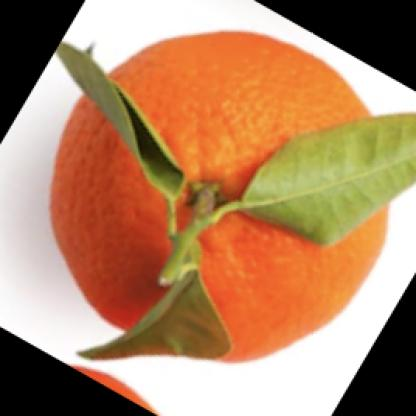fresh: (50, 31, 391, 367)
